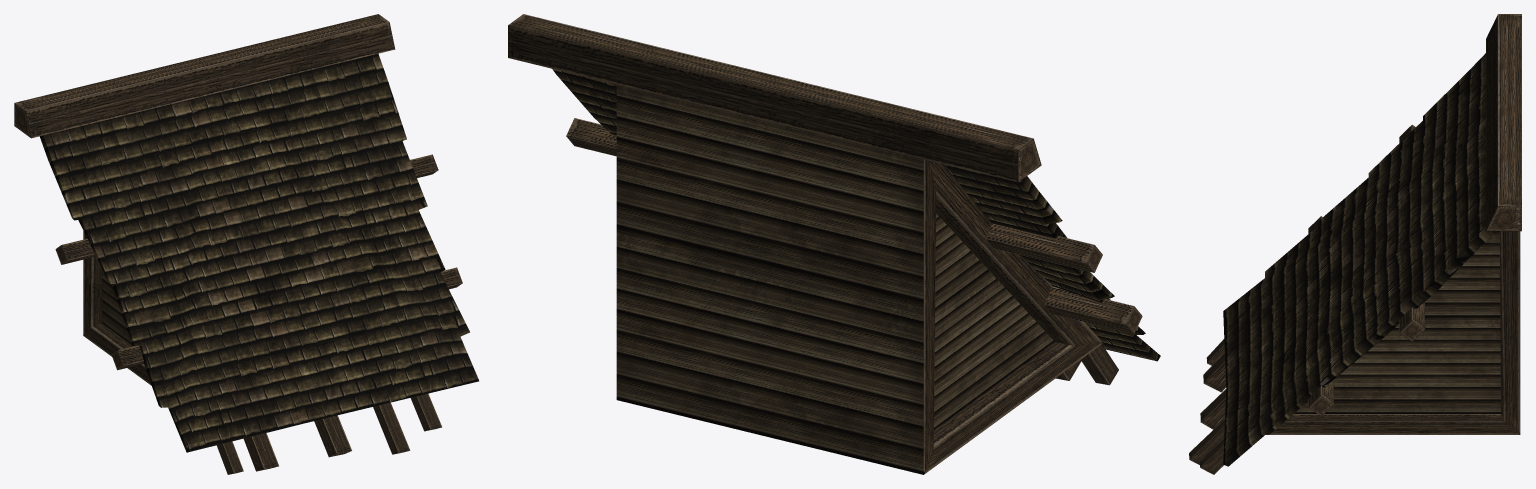
Rendered from Roof_8X8_02c.fbx.
The picture shows the model from 3 angles, left to right: view 1: azimuth 30°, elevation 25°; view 2: azimuth 150°, elevation 25°; view 3: azimuth 270°, elevation 25°; orthographic projection. The views are drawn at different scales.
Parts seen in each view (by area): view 1: Roof_8X8_02c; view 2: Roof_8X8_02c; view 3: Roof_8X8_02c.
Part boxes in pixels (x1,y1,x2,y2): Roof_8X8_02c: (14, 14, 478, 474); Roof_8X8_02c: (508, 14, 1160, 474); Roof_8X8_02c: (1189, 14, 1521, 474).
Bounding box in the file's own units: 13.55 × 10.48 × 9.73.
